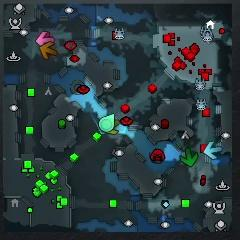p2: (99, 113, 116, 132)
x1: (37, 31, 55, 47)
x3: (204, 142, 223, 160)
x4: (180, 148, 197, 167)
x5: (39, 42, 59, 60)
